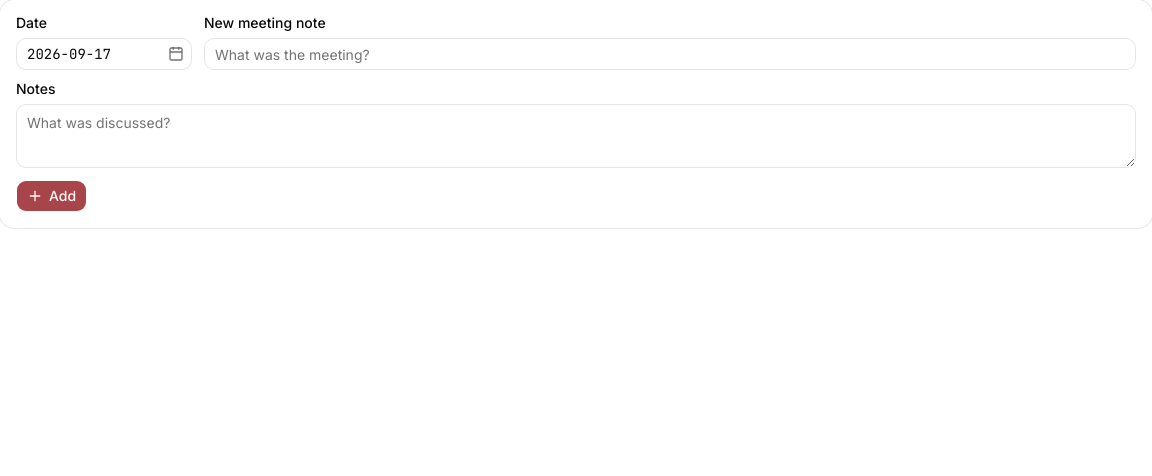
Test: MeetingNoteCapture › shows a project select when linkable projects exist
In the field labelled "New meeting note": (670, 54) [204,38,1136,70], type "A"
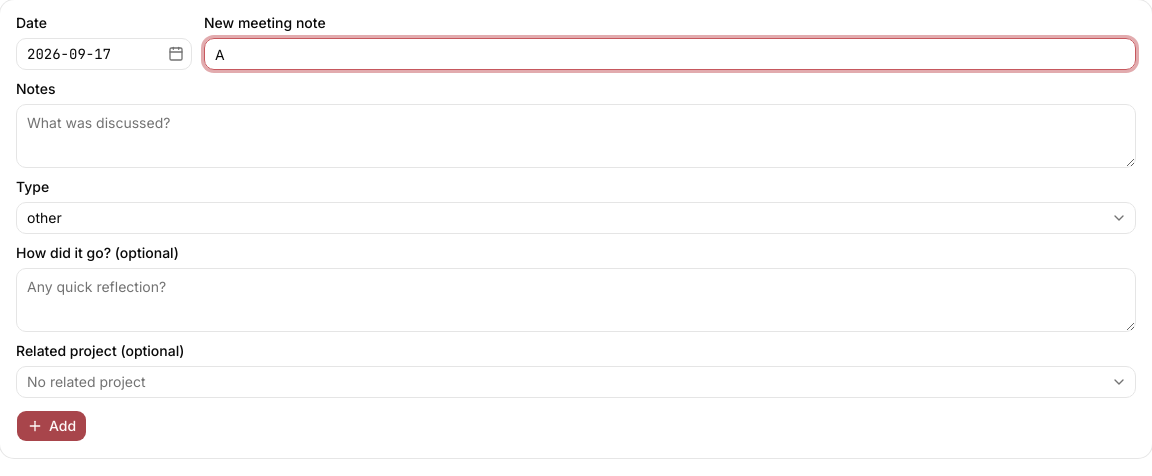
Check: the text "Related project (optional)" is shown, box [16,342,184,359]
